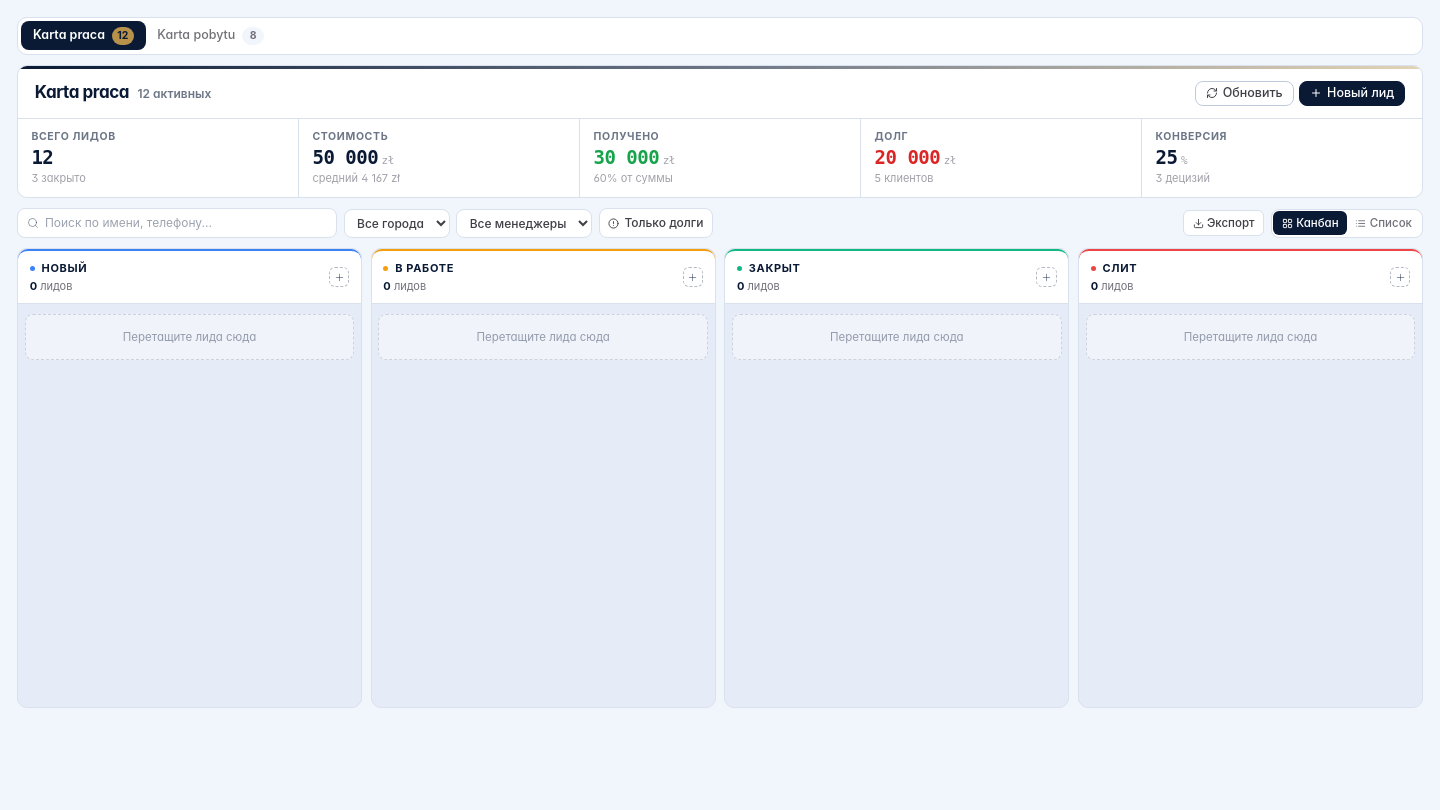
FunnelView — переключение Kanban/List › клик «Канбан» возвращает kanban
Step 1. Click the button with test id "view-list" → (1384, 223), box [1347,211,1420,235]
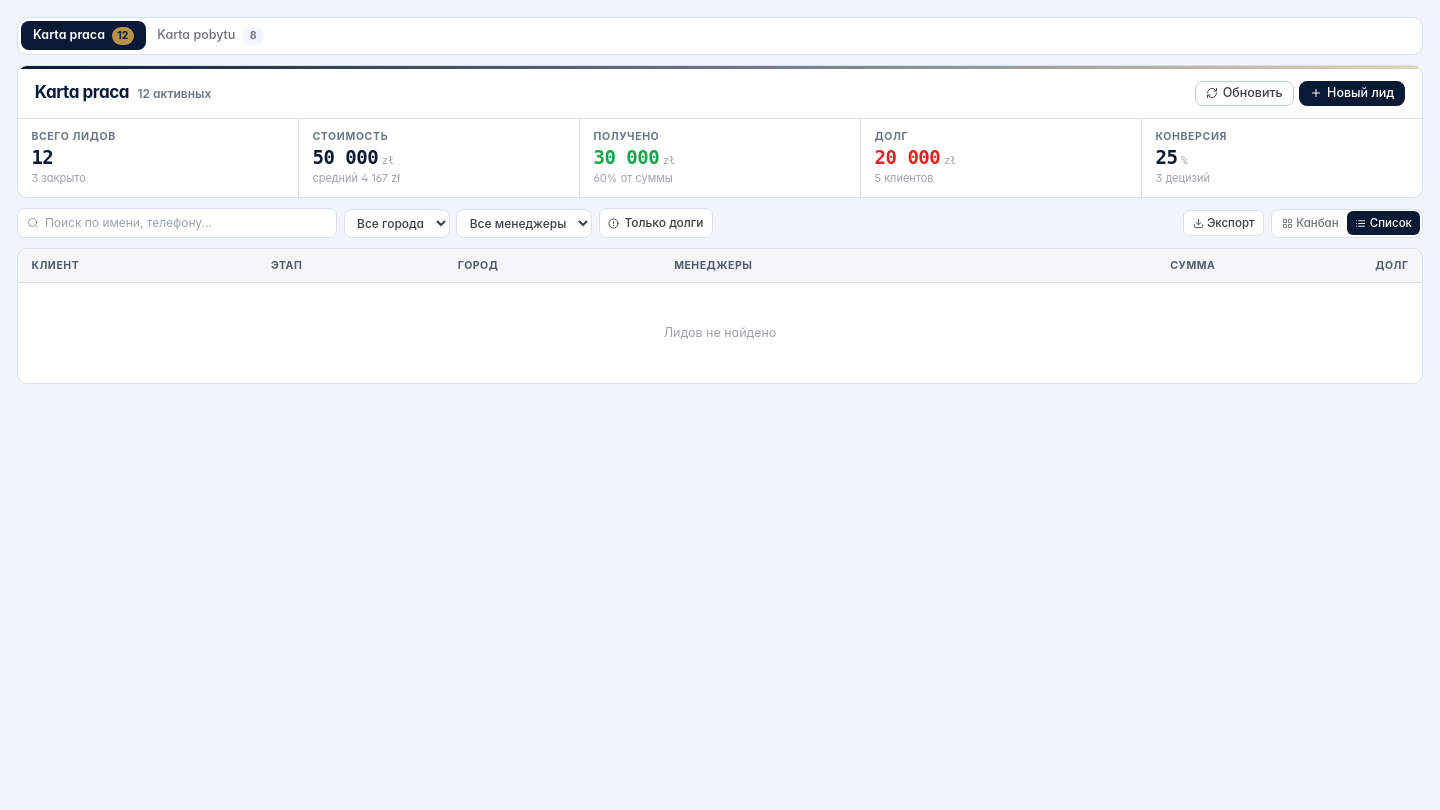
Step 2. Click the button with test id "view-kanban" → (1310, 223), box [1273,211,1347,235]
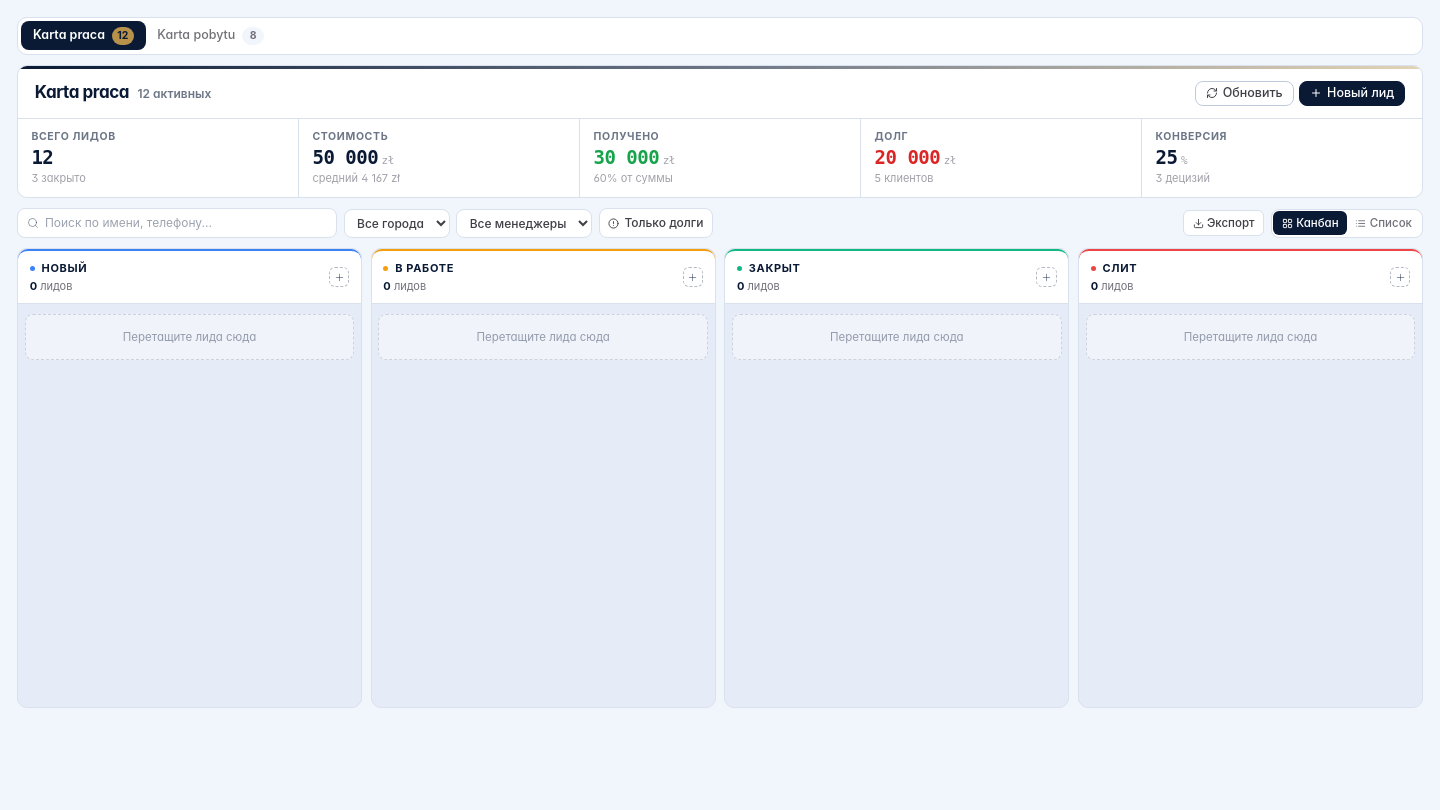
Expected: the element with test id "kanban-view" is shown, [17,248,1423,718]
